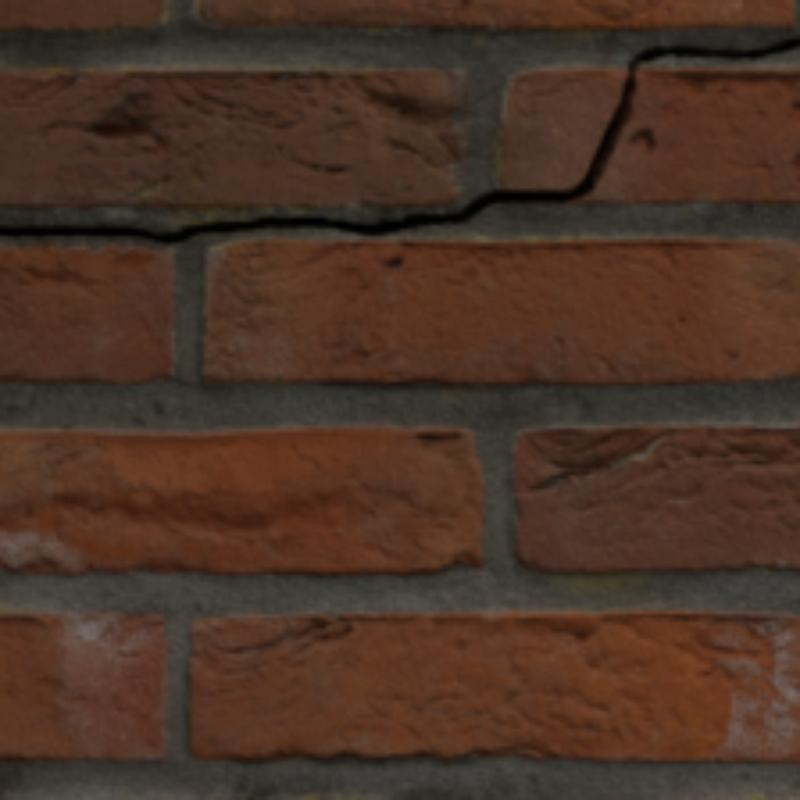pothole: (0, 39, 796, 239)
